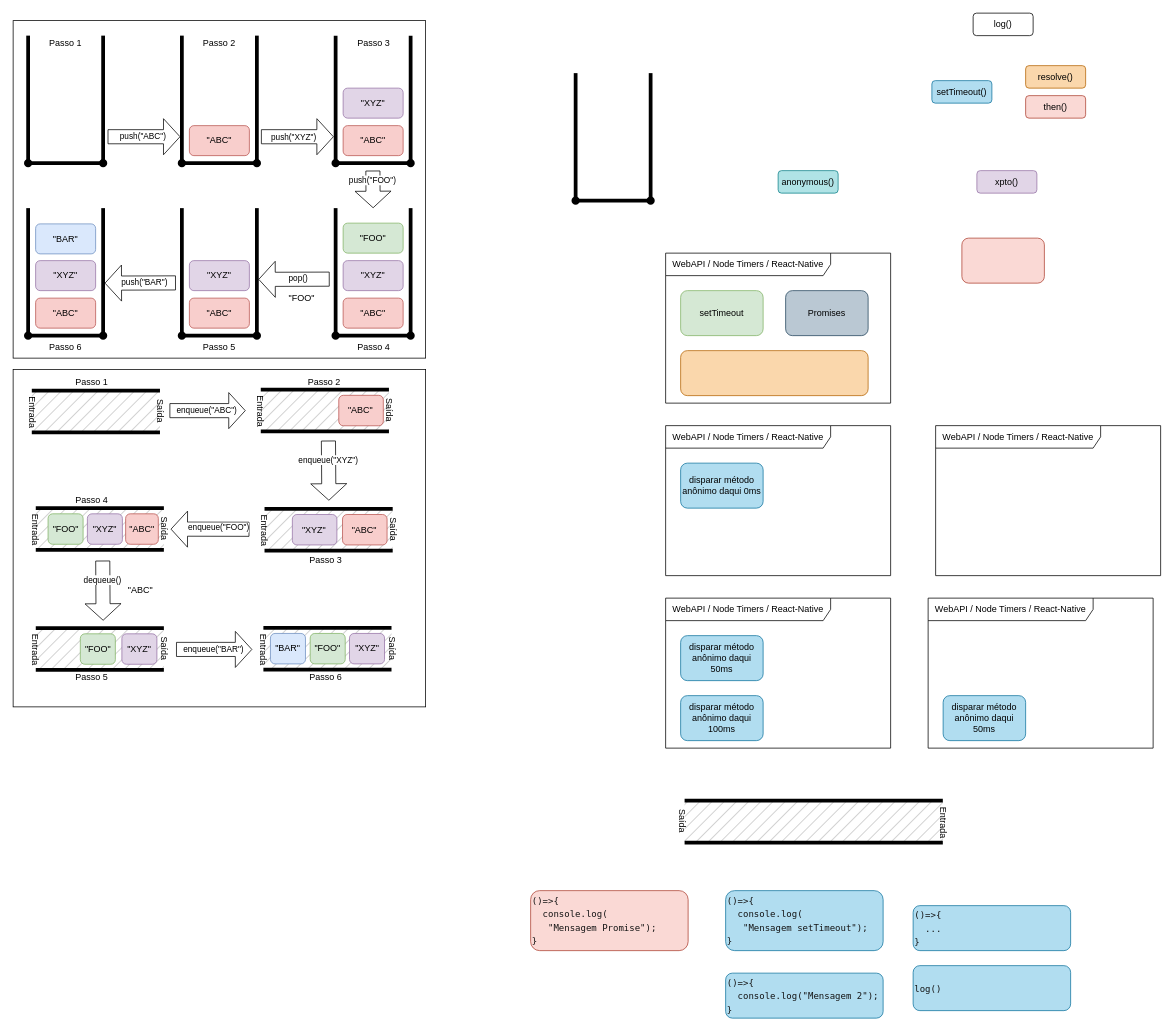
This 1174x1031 diagram has some shape labels left out. The shapes that lost their labels are listed below. From the top down, each one's box as (x1, y1, x2, y2) in pixels, then its label:
(961, 237, 1044, 283): resultado da promise
(680, 350, 868, 396): outras implementações
